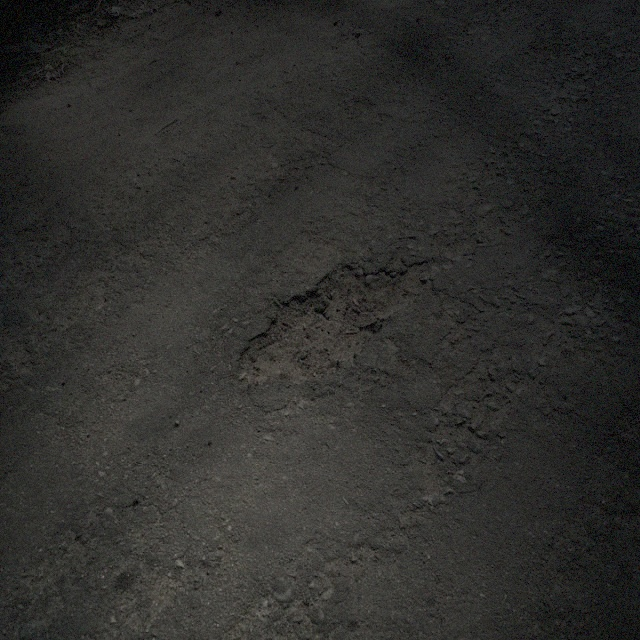pothole: (230, 254, 438, 384)
